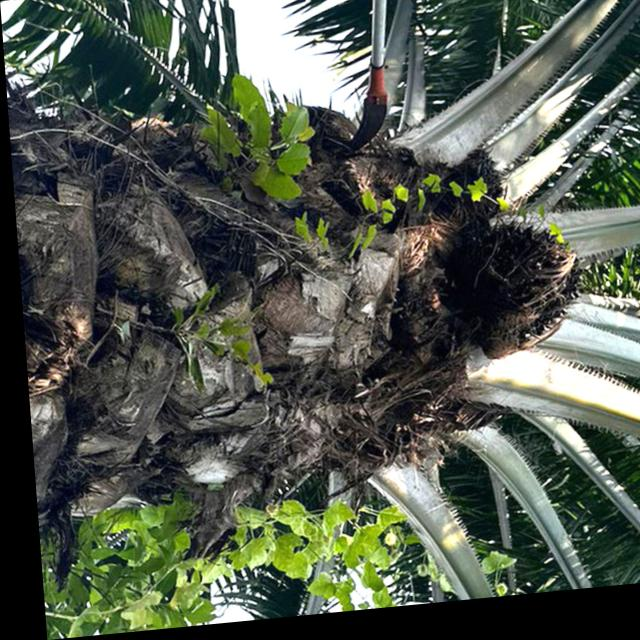unripe: (455, 229, 590, 364)
